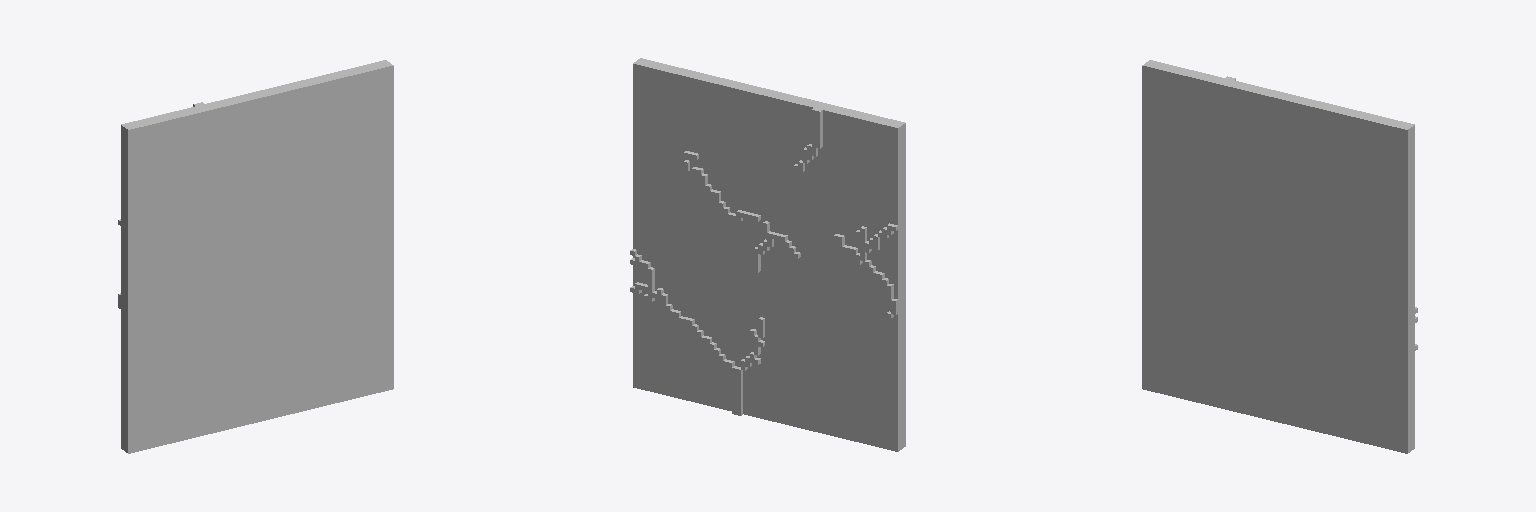
Rendered from mur pattern 1.obj.
3 renders of one model, left to right at view 1: azimuth 30°, elevation 25°; view 2: azimuth 150°, elevation 25°; view 3: azimuth 330°, elevation 25°, orthographic.
Visible parts, largest first — view 1: object 1; view 2: object 1; view 3: object 1.
Boxes of the visible parts, x1=… form: object 1: x1=118, y1=60, x2=393, y2=453; object 1: x1=630, y1=58, x2=905, y2=451; object 1: x1=1142, y1=60, x2=1417, y2=453.
Bounding box in the file's own units: 6 × 7 × 0.4.